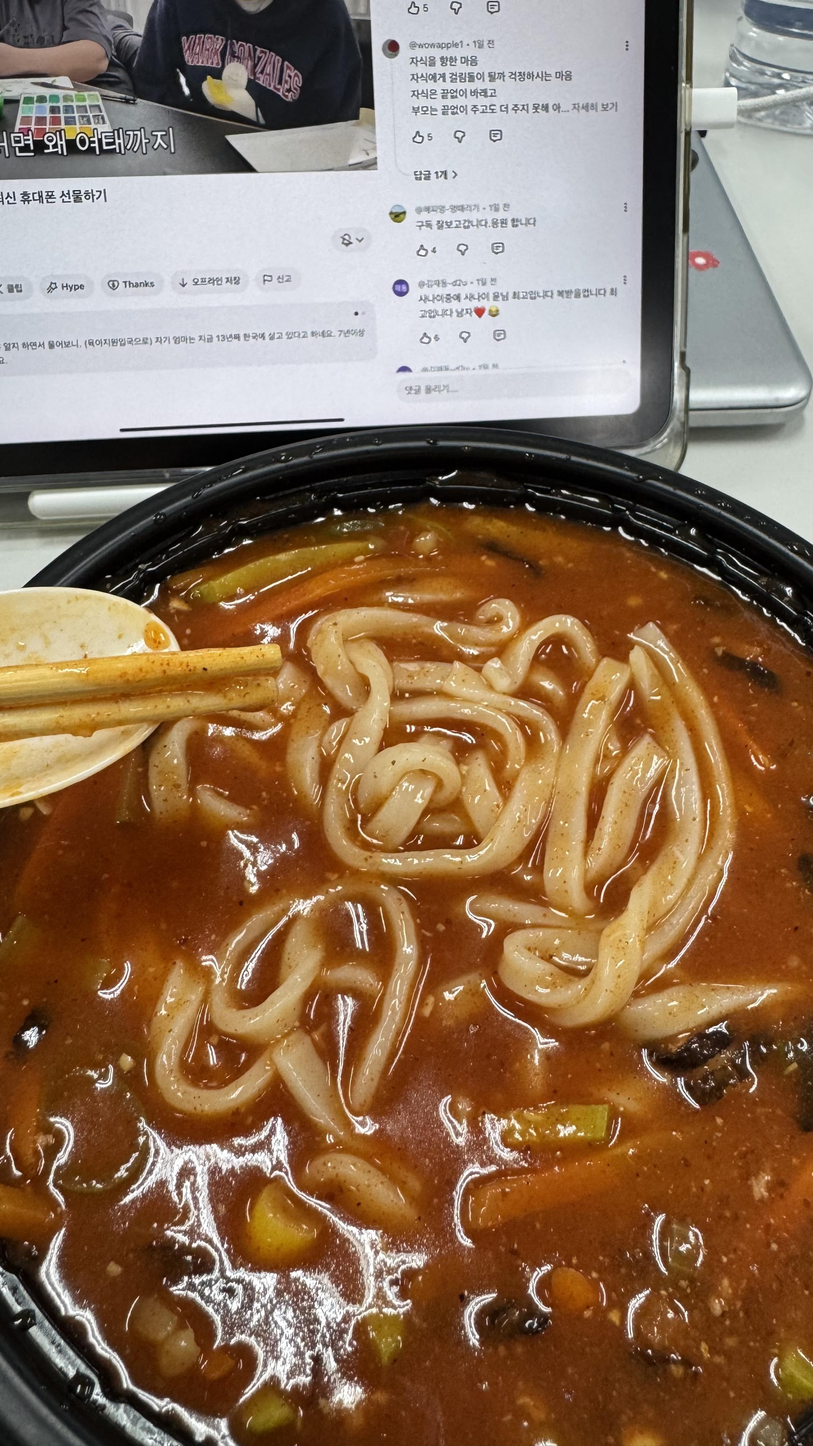Lunch Box: (0, 433, 813, 1446)
